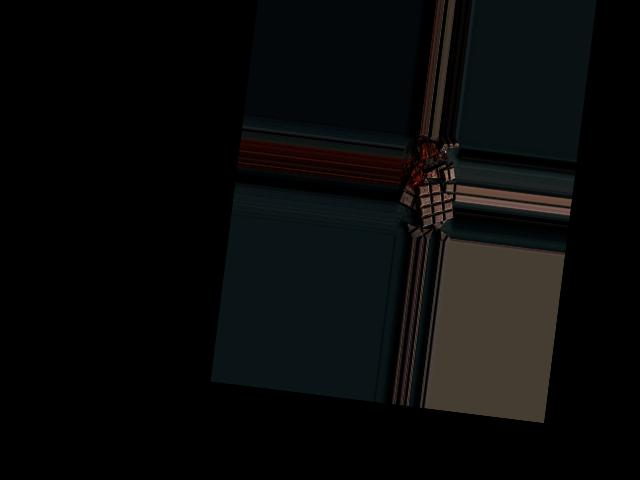chocolate: (412, 180, 457, 232)
